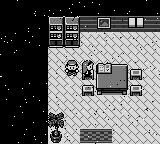leer: (97, 62, 112, 74), (97, 17, 111, 29)
main: (64, 60, 79, 76)
no-caminable: (0, 0, 159, 143), (96, 64, 128, 95), (49, 16, 80, 47), (112, 16, 159, 32), (48, 112, 64, 143), (80, 16, 97, 32)
npc: (81, 60, 95, 77)
puerta: (77, 128, 116, 143)
